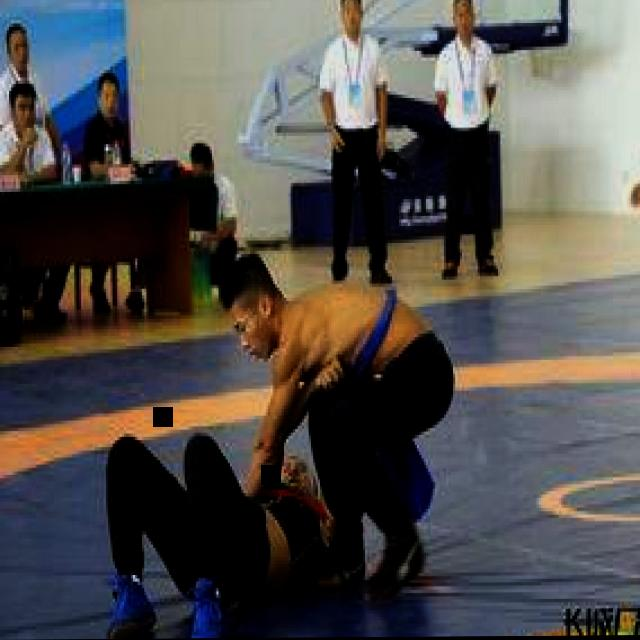Fall-Detected: (75, 412, 346, 640)
